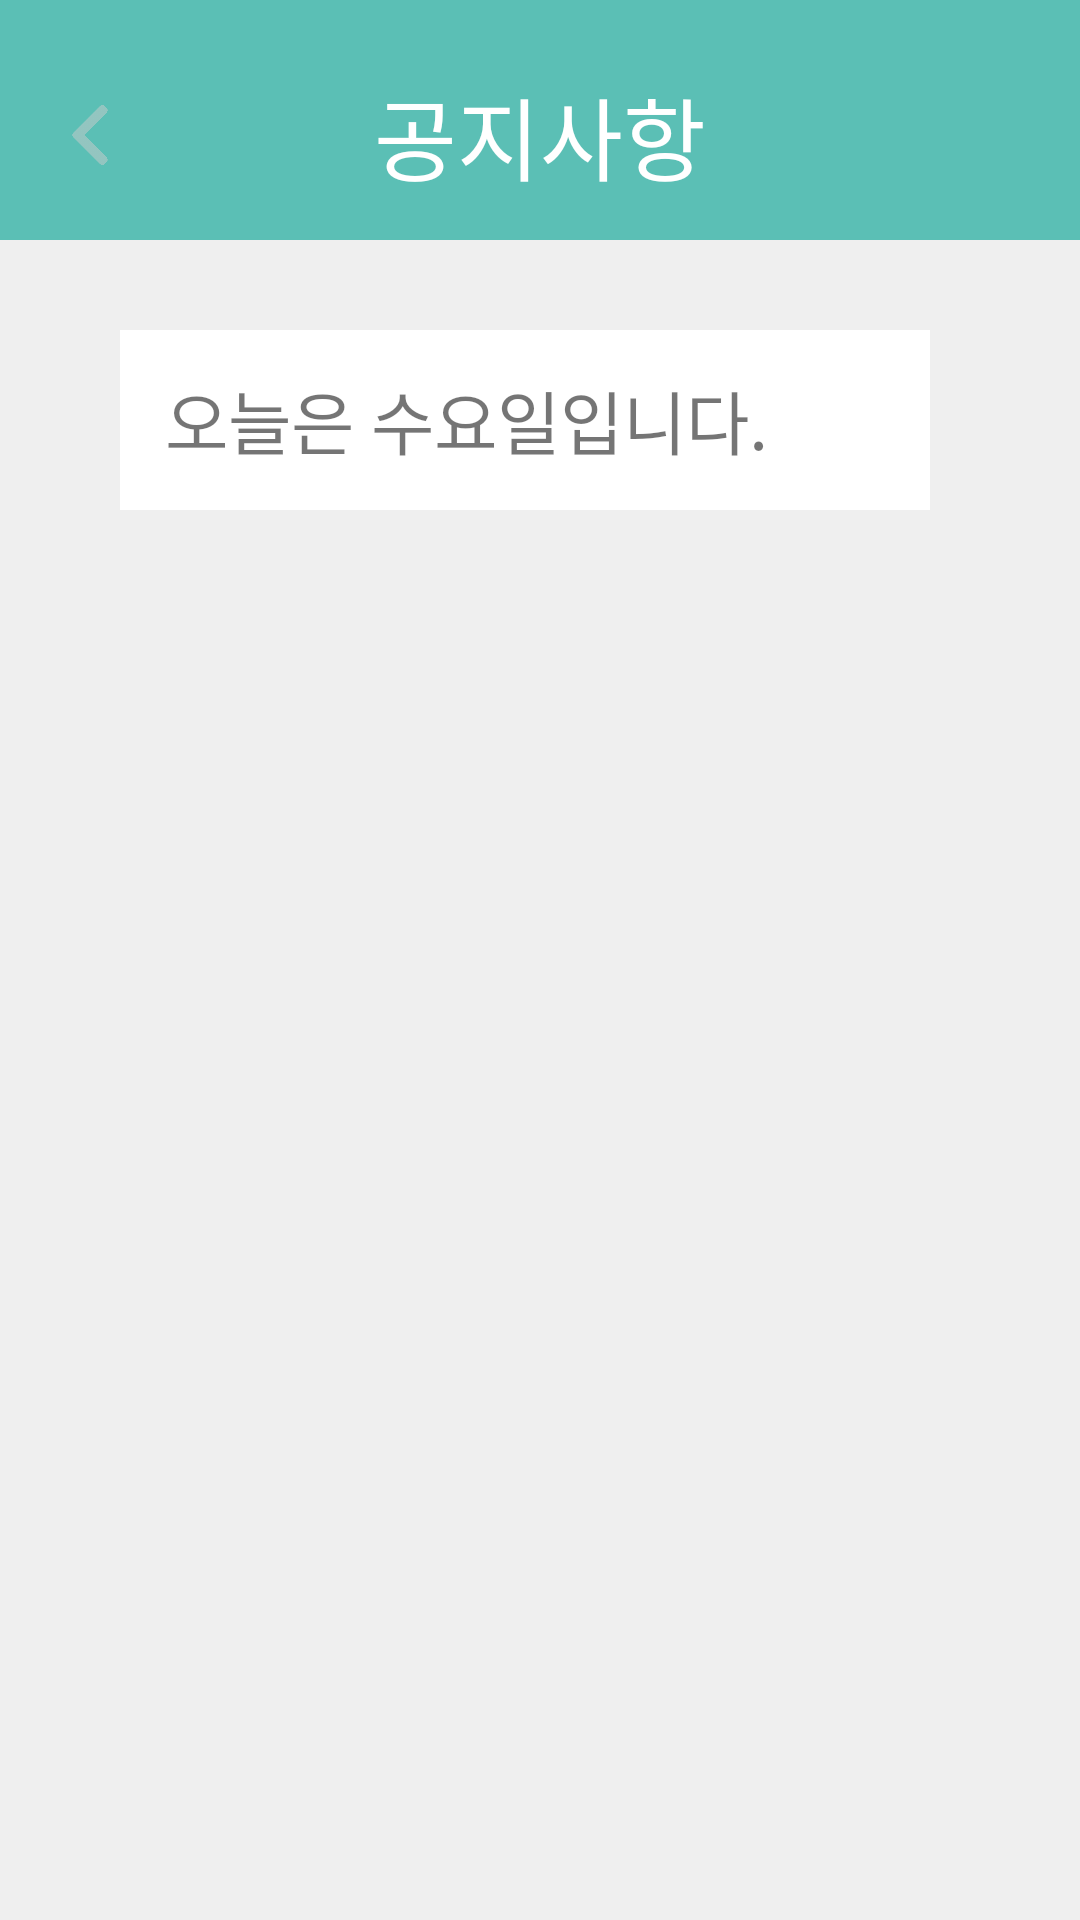

Icons on this 1080 x 1920 Android screen, each with its box as (x1, y1, x2, y2):
left arrow: (72, 105, 108, 165)
